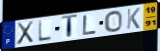K: (126, 7, 141, 30)
L: (81, 14, 98, 37), (37, 19, 53, 43)
O: (103, 9, 124, 33)
T: (61, 14, 79, 40)
X: (16, 20, 35, 46)
